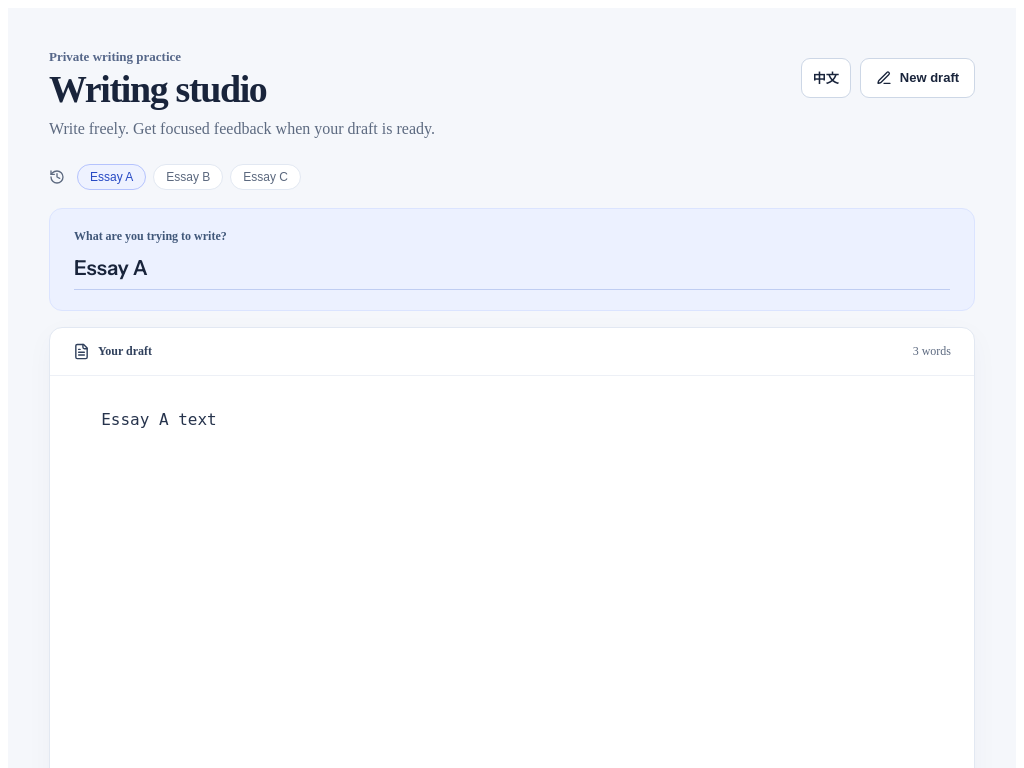
Test: PracticeStudio draft history › ignores a late history response for a draft the student has already left
What coordinates should you click on to do the following:
click the button "Essay B"
I would click on:
 (188, 177)
Its box is 153,164 -> 223,190.
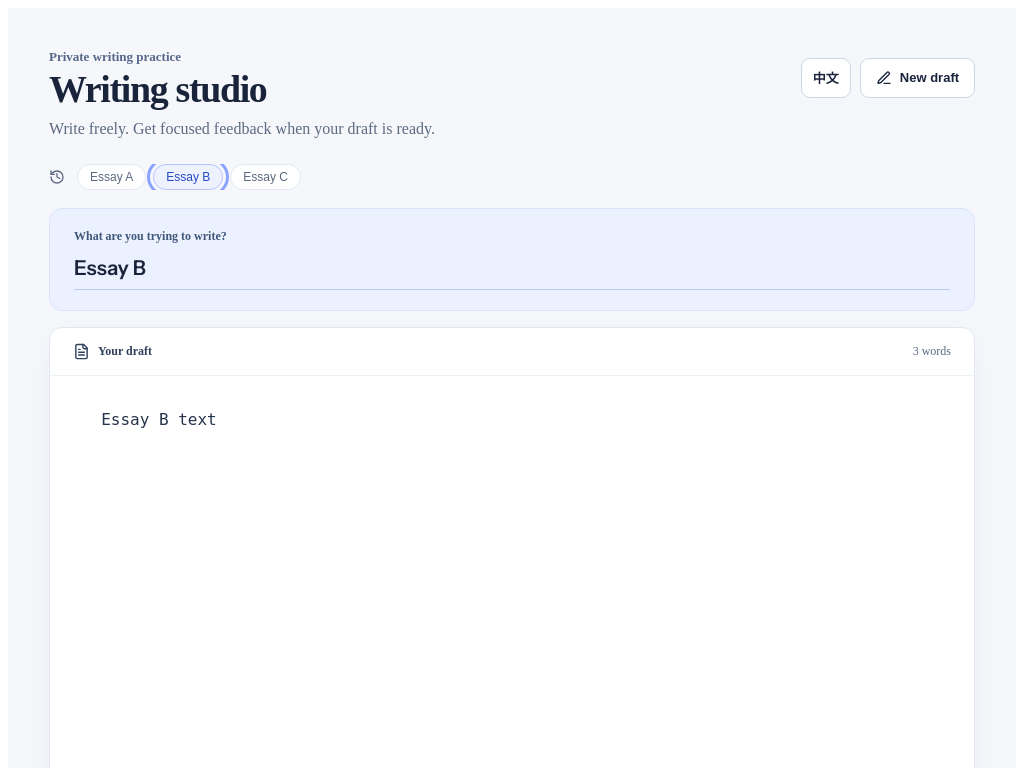
What coordinates should you click on to do the following:
click the button "Essay C"
I would click on:
 (266, 177)
Its box is 230,164 -> 301,190.
(page scrolled)
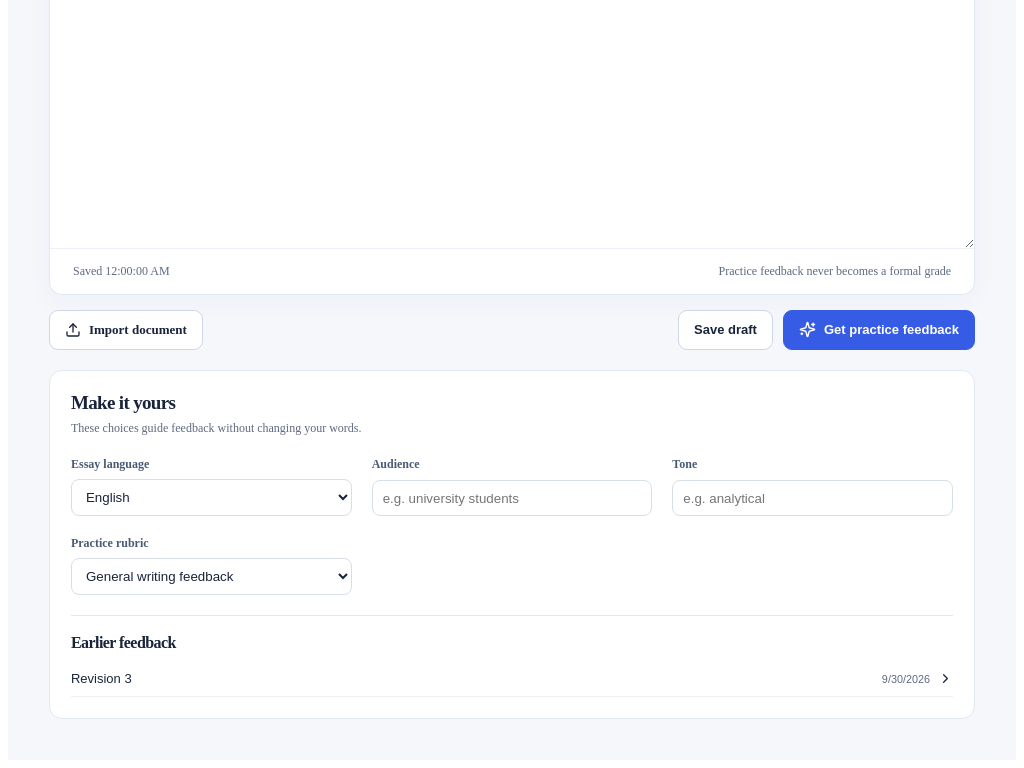
Check: the text "Revision 3" is shown, box 71,671 -> 132,686
